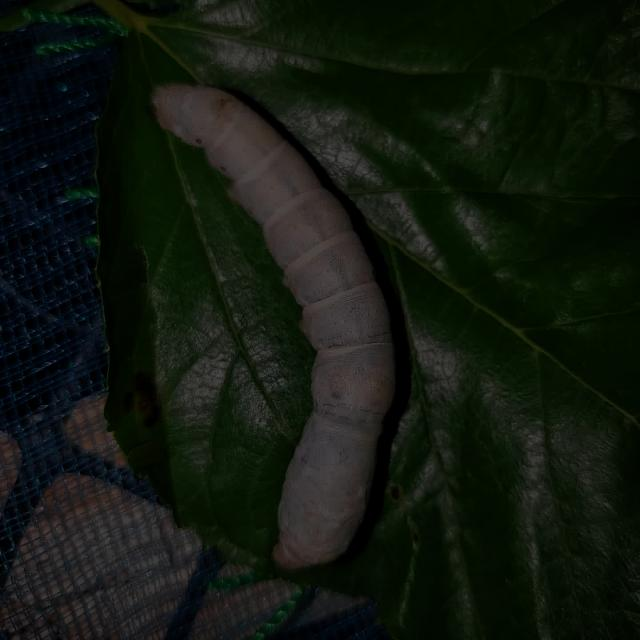Healthy: (144, 72, 404, 579)
